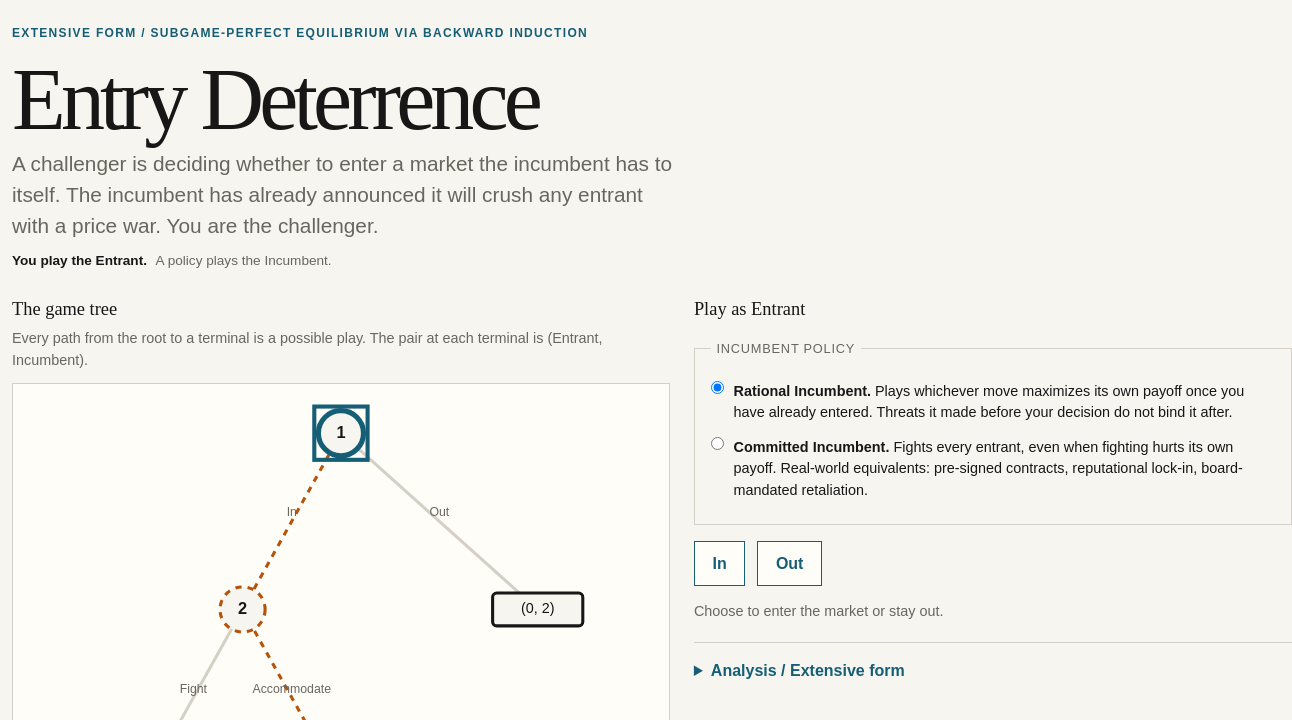
Scenario: extensive-form play surface — entry deterrence › plays In against the rational incumbent and lands on (1, 1)
The width and height of the screenshot is (1292, 720).
Click the button "In". click: click(720, 564)
box: [694, 541, 745, 586]
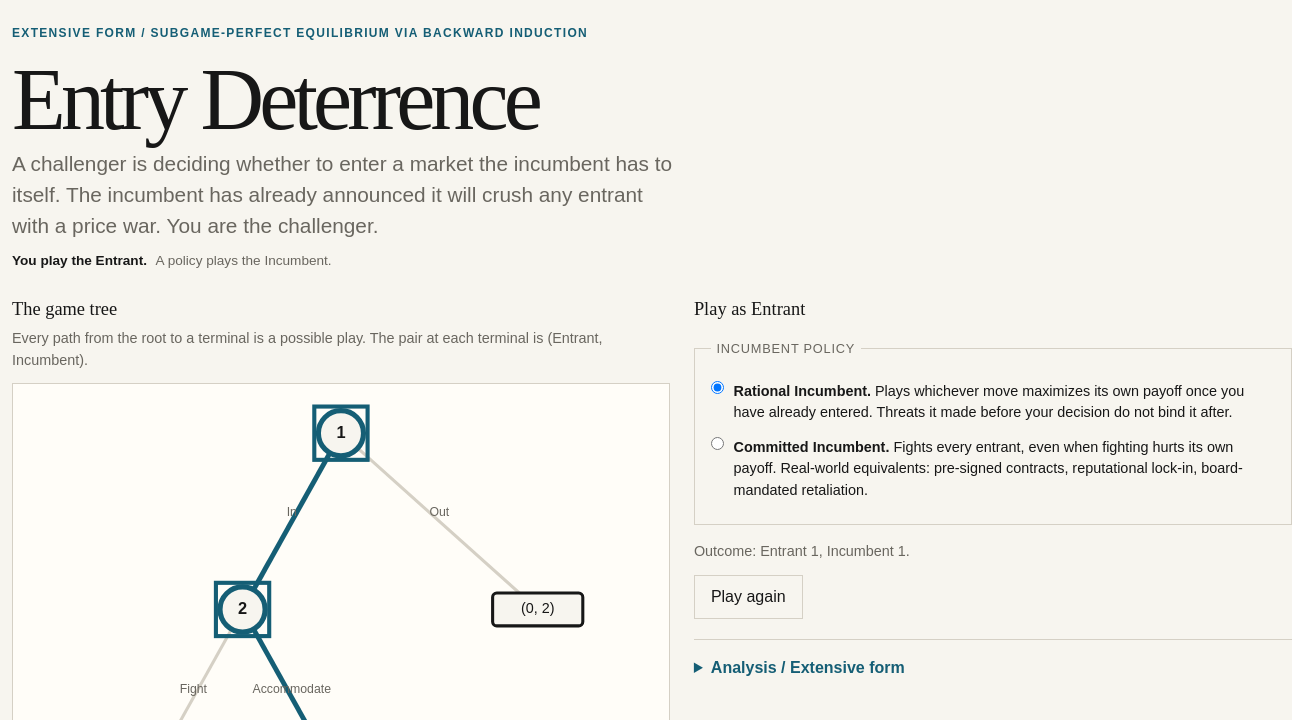
Expected: the text "Outcome: Entrant 1, Incumbent 1." is shown, [694, 543, 910, 559]
Expected: the button "Play again" is shown, [694, 575, 803, 619]
